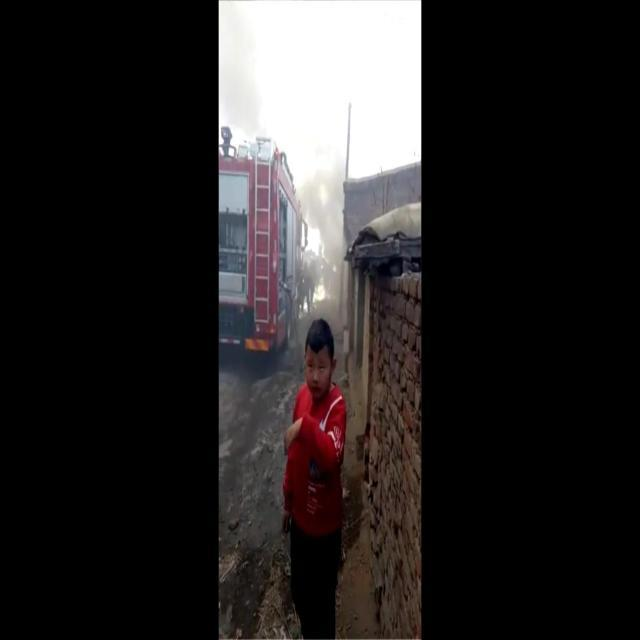Smoke: (298, 142, 352, 314), (218, 0, 266, 141)
